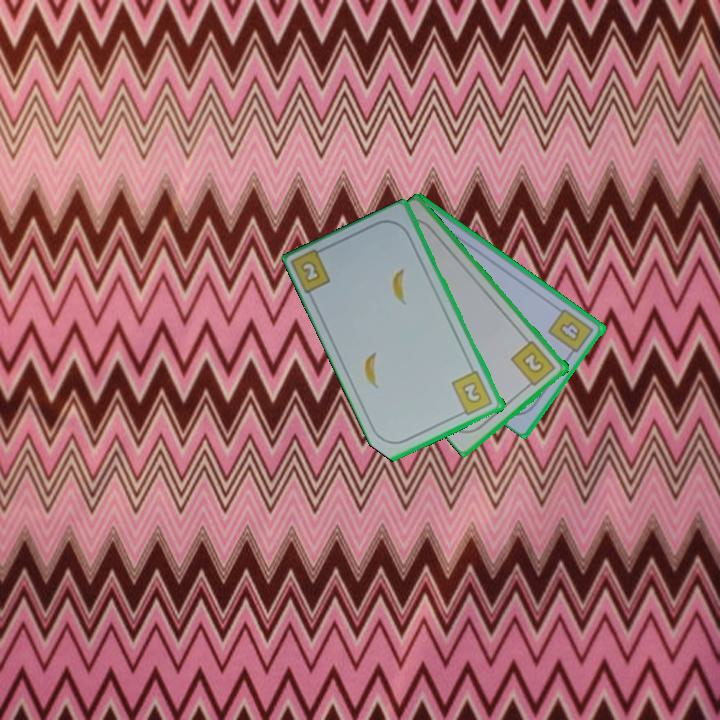2b: (508, 337, 559, 391), (448, 367, 496, 419), (297, 257, 324, 286)
4b: (545, 305, 597, 360)
